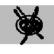not correct: (11, 5, 45, 46)
